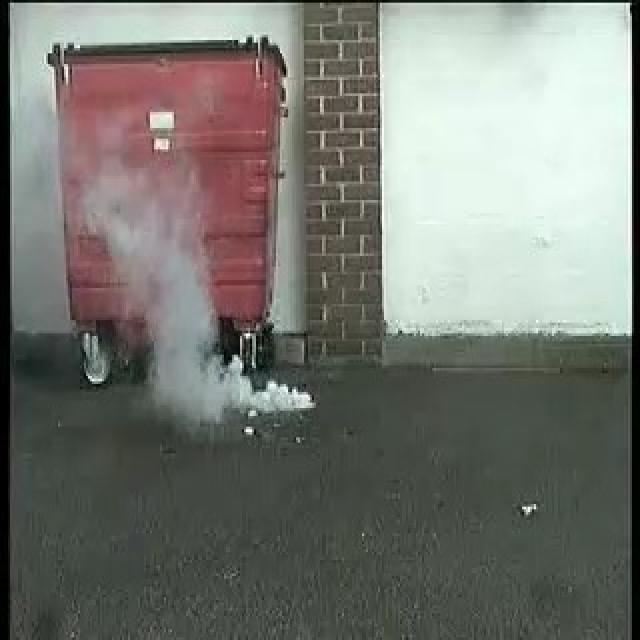smoke: (119, 214, 310, 417)
